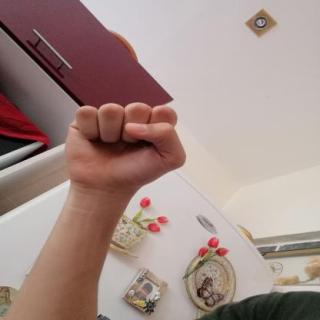SAD: (46, 92, 202, 203)
